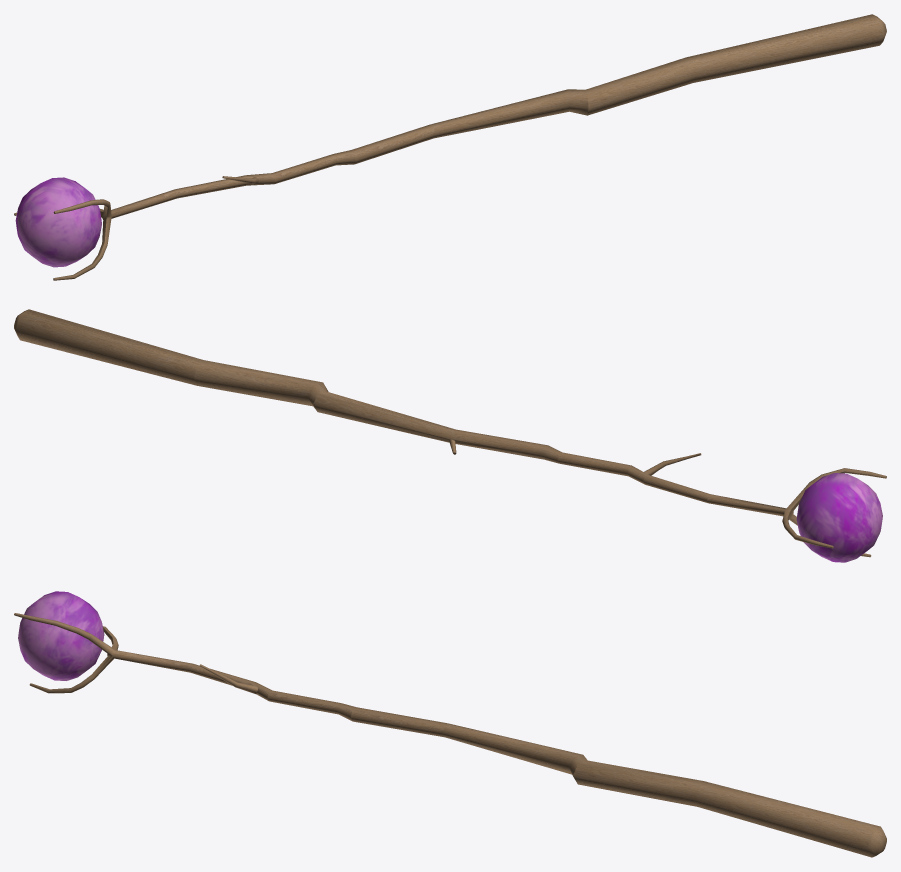
Rendered from magicwand.fbx.
The picture shows the model from 3 angles, top to bottom: view 1: azimuth 30°, elevation 25°; view 2: azimuth 150°, elevation 25°; view 3: azimuth 330°, elevation 25°; orthographic projection.
Visible parts, largest first — view 1: Cube, ball; view 2: Cube, ball; view 3: Cube, ball.
Boxes of the visible parts, x1,y1,x2,y2 form: Cube: (14,14,886,280); ball: (15,177,101,267); Cube: (14,309,886,557); ball: (796,473,882,562); Cube: (14,613,886,857); ball: (18,591,104,680).
Bounding box in the file's own units: 153 × 14.6 × 14.91.
Materials: 1 (1 with a texture image).
